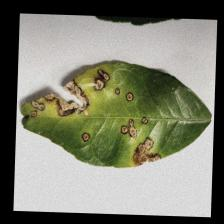canker: (20, 60, 164, 168)
